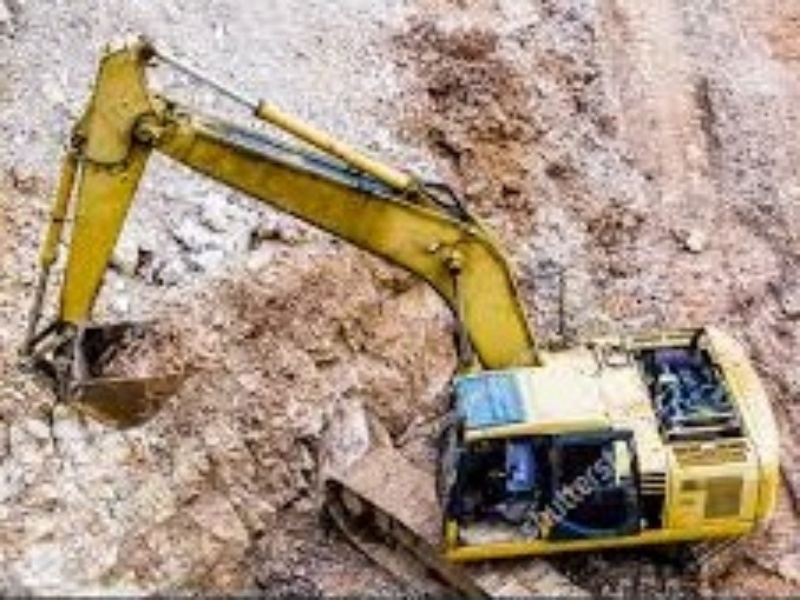wajueji: (306, 265, 793, 600)
